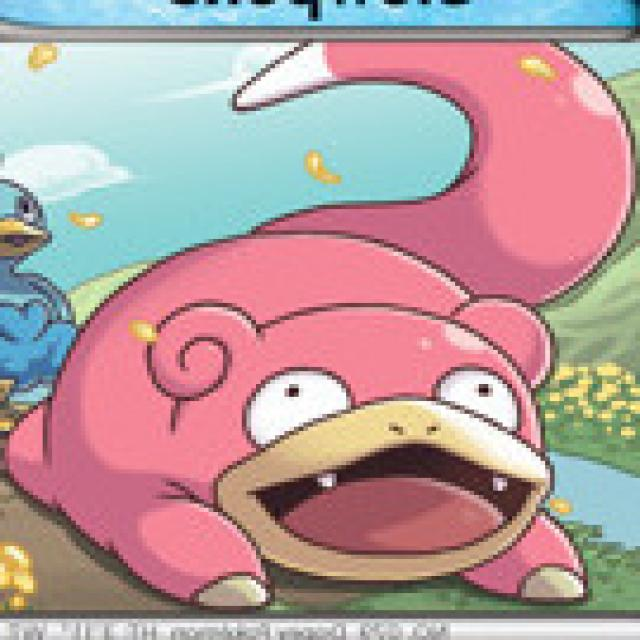Slowpoke: (43, 162, 602, 604)
